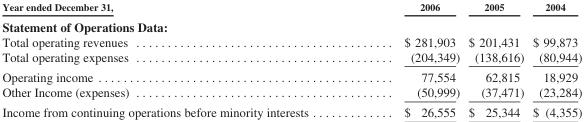table: (1, 0, 581, 119)
table column: (1, 0, 355, 119), (355, 0, 463, 119), (463, 0, 527, 119), (527, 0, 581, 119)
table column header: (1, 0, 581, 15)
table projected row header: (1, 15, 581, 33)
table row: (1, 15, 581, 33), (1, 66, 581, 84), (1, 84, 581, 102), (1, 49, 581, 66), (1, 102, 581, 119), (1, 33, 581, 49), (1, 0, 581, 15)
